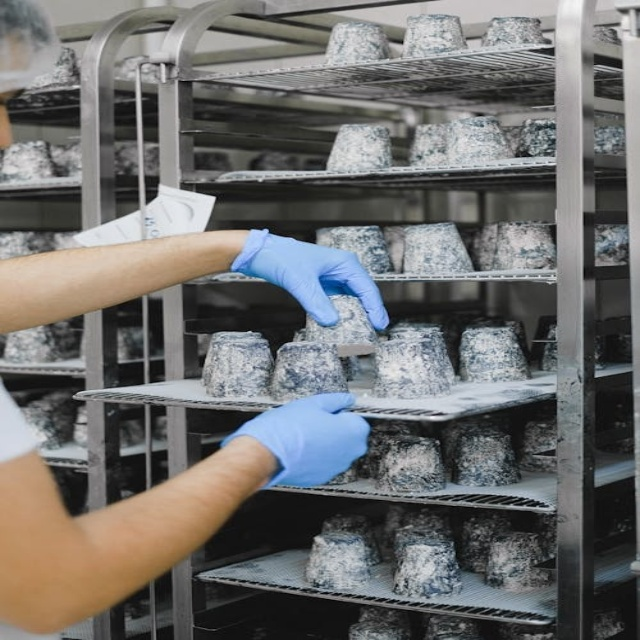Guantes: (228, 227, 390, 331), (219, 392, 372, 490)
